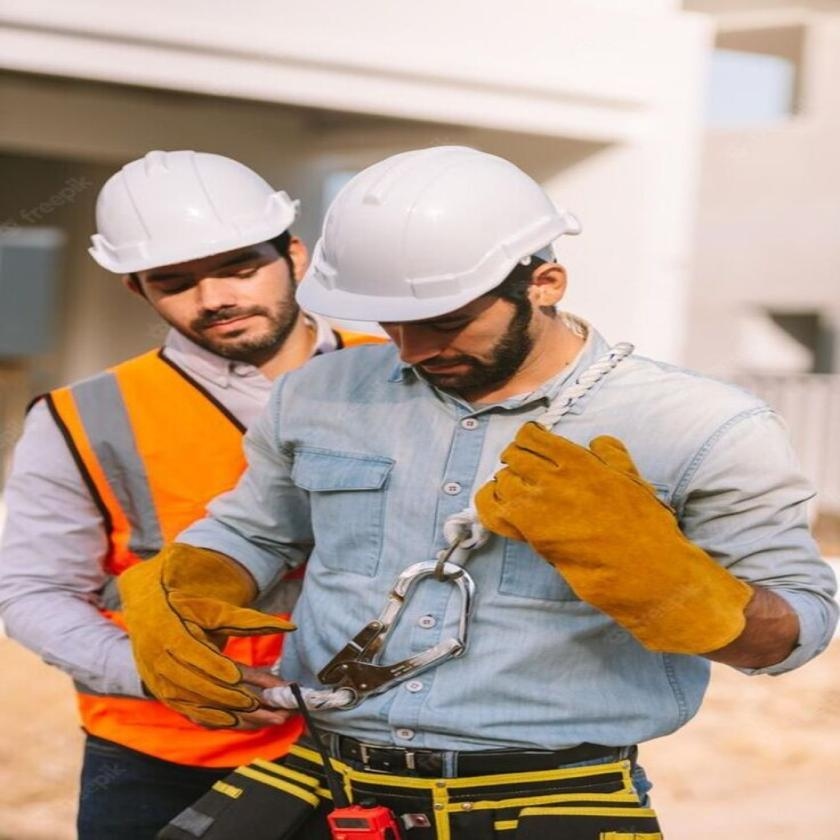Con_casco: (302, 140, 590, 411), (89, 149, 312, 373)
